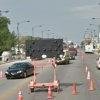Car: (4, 56, 37, 83)
